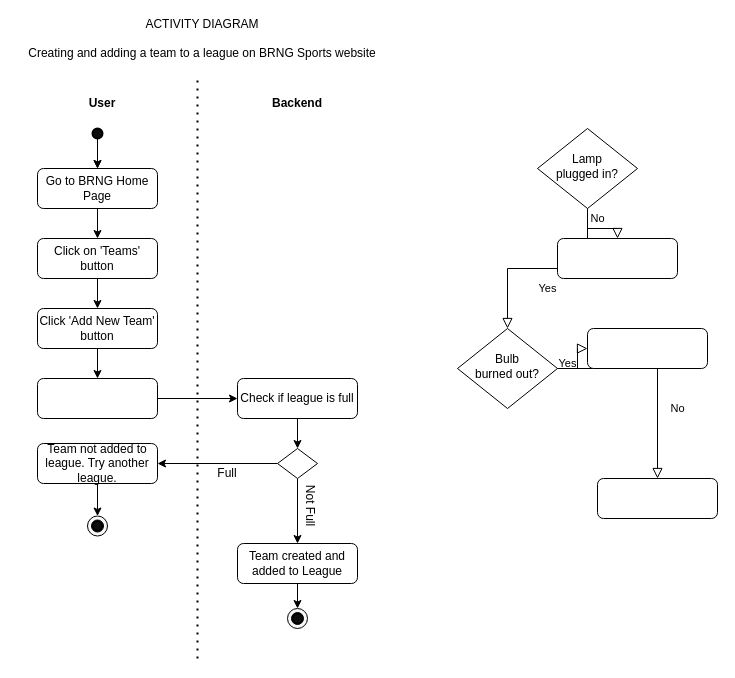
Some shapes in this 735 by 678 pixel diagram are drawn without their labels. The shapes that lost their labels are listed below. From the top down, each one's centre as x and y in pixels, then its label:
At (x=617, y=258): "Plug in lamp".
At (x=647, y=348): "Replace Bulb".
At (x=97, y=398): "Type name of team and choose league to add team to.".
At (x=657, y=498): "Repair Lamp".
